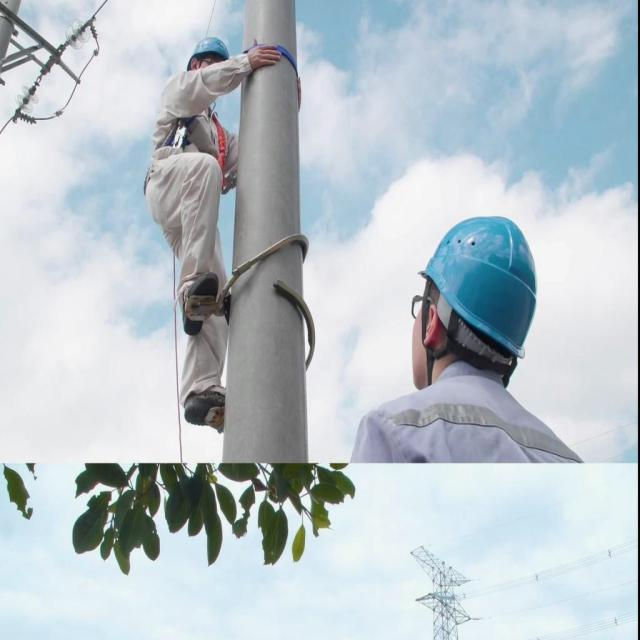hand_noglove: (246, 34, 284, 72)
head_helmet: (415, 217, 535, 356), (182, 38, 234, 68)
person: (336, 187, 602, 468), (150, 31, 240, 432)
